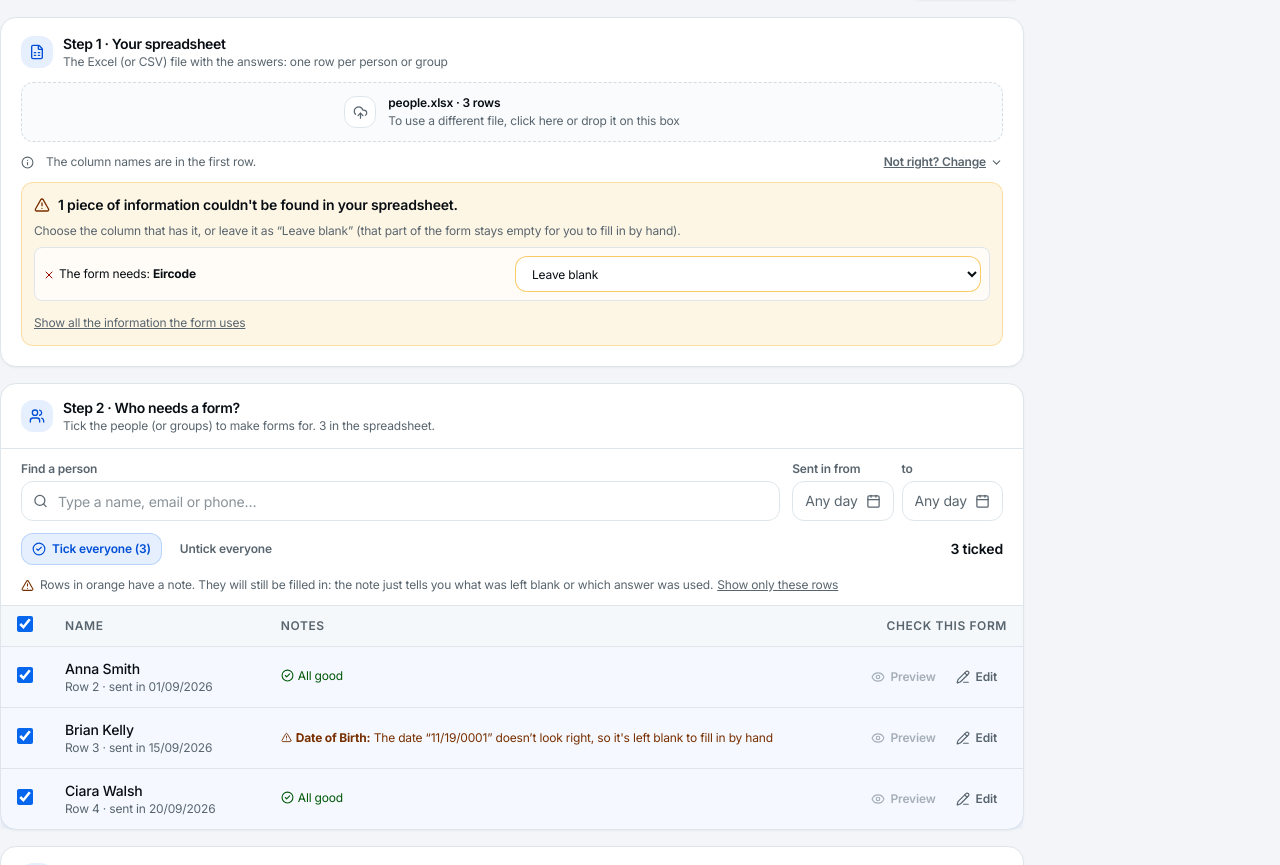
it: FillView › lets a row be ticked by clicking anywhere on it
Click the text "Anna Smith" at coordinates (102, 668), box [65, 660, 140, 677]
(page scrolled)
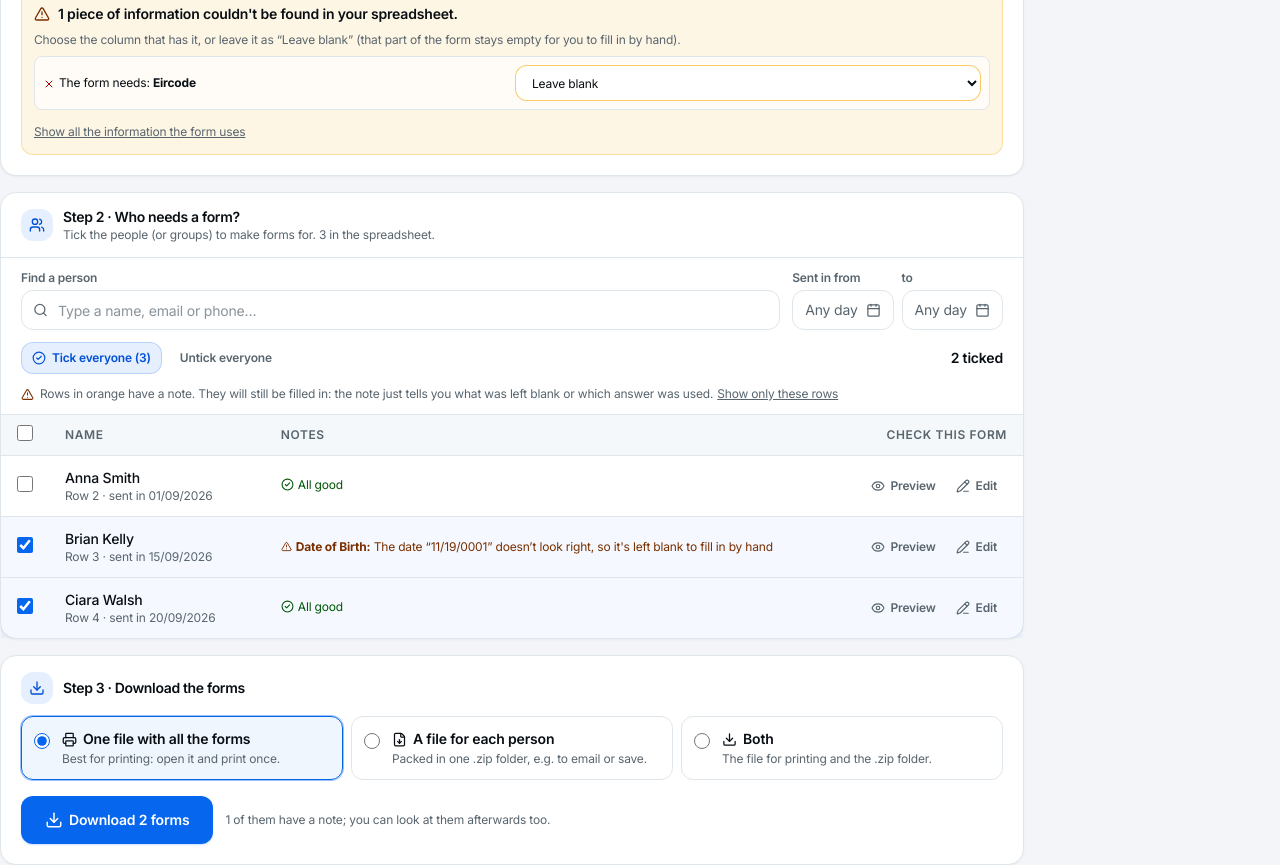
Result: the button "Download 2 forms" is shown at [21, 796, 213, 844]
